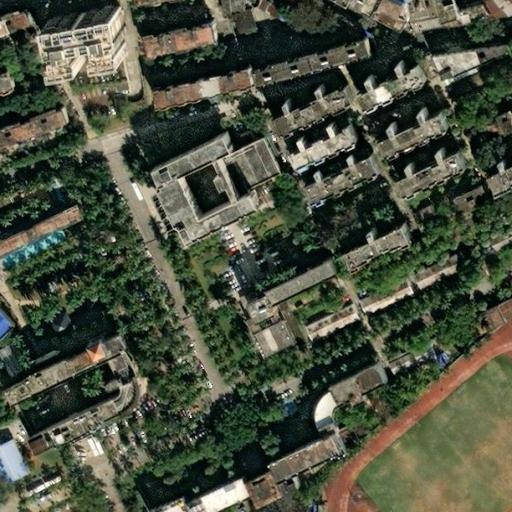building: (144, 127, 258, 239), (0, 348, 94, 405), (31, 397, 120, 455), (37, 7, 117, 70), (260, 88, 346, 139), (294, 156, 372, 207), (146, 68, 244, 108), (427, 31, 510, 78), (262, 433, 340, 483), (387, 144, 460, 195), (261, 253, 332, 303), (369, 108, 441, 156), (283, 122, 349, 172), (348, 61, 416, 106), (318, 365, 378, 409), (303, 36, 369, 74), (379, 339, 439, 380), (178, 477, 246, 512), (26, 209, 86, 248), (295, 306, 350, 347), (350, 280, 405, 318), (248, 54, 309, 88), (404, 254, 458, 291), (0, 110, 52, 146), (160, 19, 215, 52), (467, 221, 512, 260), (304, 388, 332, 441), (250, 324, 290, 361), (108, 374, 142, 415), (241, 473, 278, 510), (362, 219, 402, 253), (380, 3, 412, 36), (480, 162, 512, 195), (92, 334, 126, 365), (336, 238, 367, 266), (452, 191, 484, 217), (108, 353, 135, 383), (236, 291, 264, 318), (26, 274, 53, 298), (38, 317, 65, 341), (52, 261, 78, 284), (69, 304, 95, 327), (144, 496, 181, 512), (466, 11, 494, 32), (489, 296, 512, 321), (479, 306, 498, 332), (0, 77, 18, 104), (0, 19, 21, 42), (405, 206, 428, 227), (484, 1, 503, 25), (258, 30, 279, 51), (242, 319, 261, 339), (427, 356, 445, 375), (14, 487, 33, 501), (495, 0, 512, 14), (33, 479, 51, 490), (81, 442, 95, 456)
